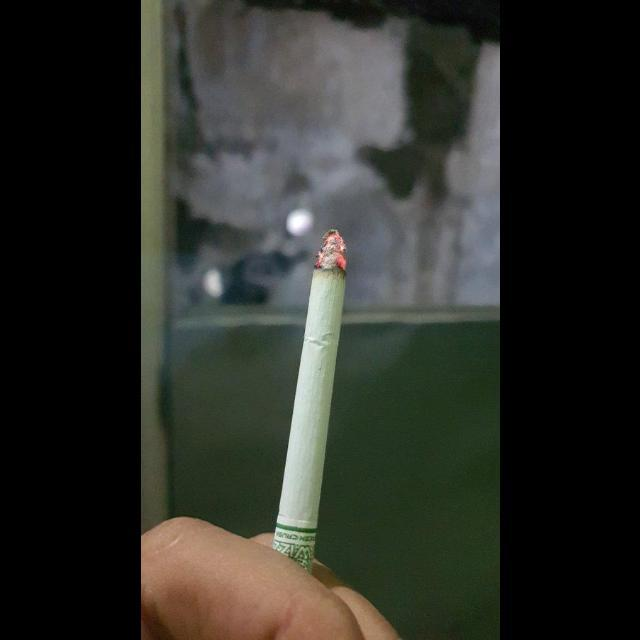rokok: (267, 229, 353, 569)
